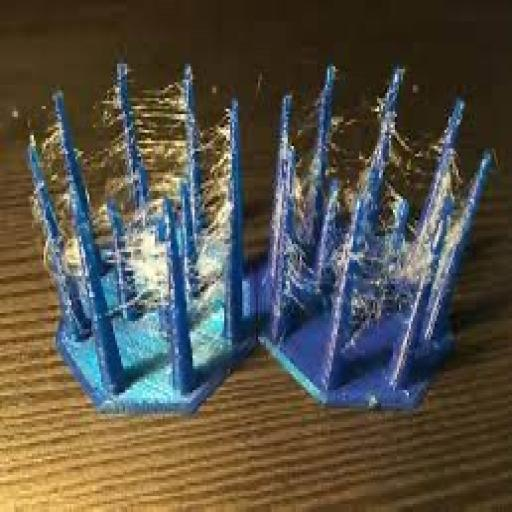stringing: (65, 76, 140, 244), (354, 248, 433, 335), (133, 82, 181, 196), (180, 236, 225, 347), (37, 118, 76, 241), (386, 121, 438, 201), (125, 226, 169, 315), (206, 124, 228, 226)
